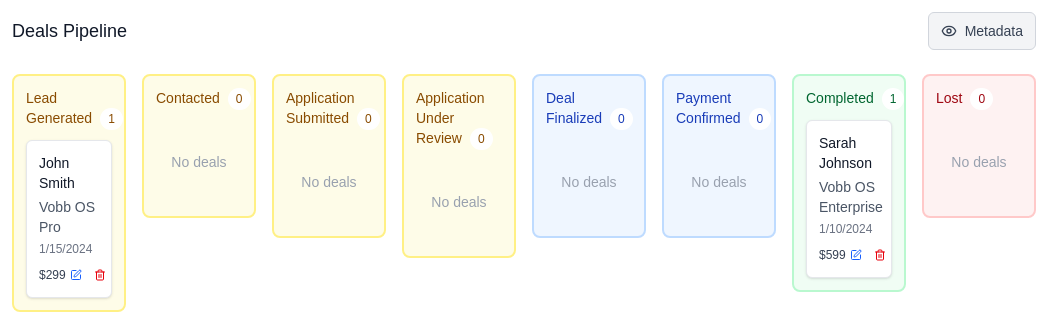
Scenario: KanbanView › toggles metadata visibility when metadata toggle is clicked
Click the button "Metadata".
click(982, 31)  # box [928,12,1036,50]
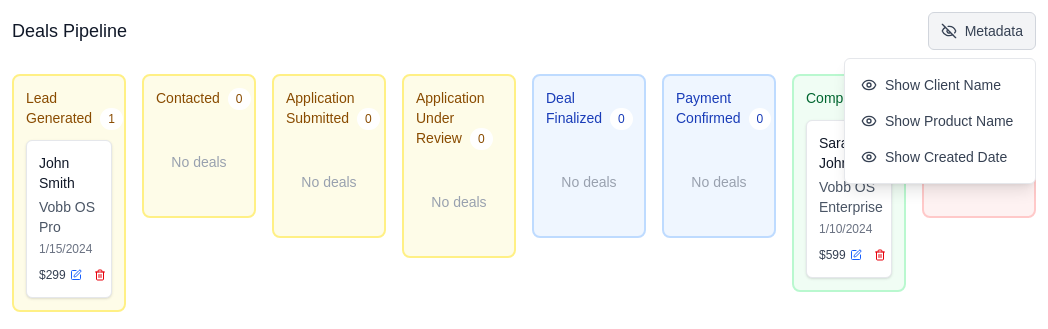
Result: the text "show Client Name" is shown at [885,75,1001,95]
Result: the text "show Product Name" is shown at [885,111,1013,131]
Result: the text "show Created Date" is shown at [885,147,1007,167]
